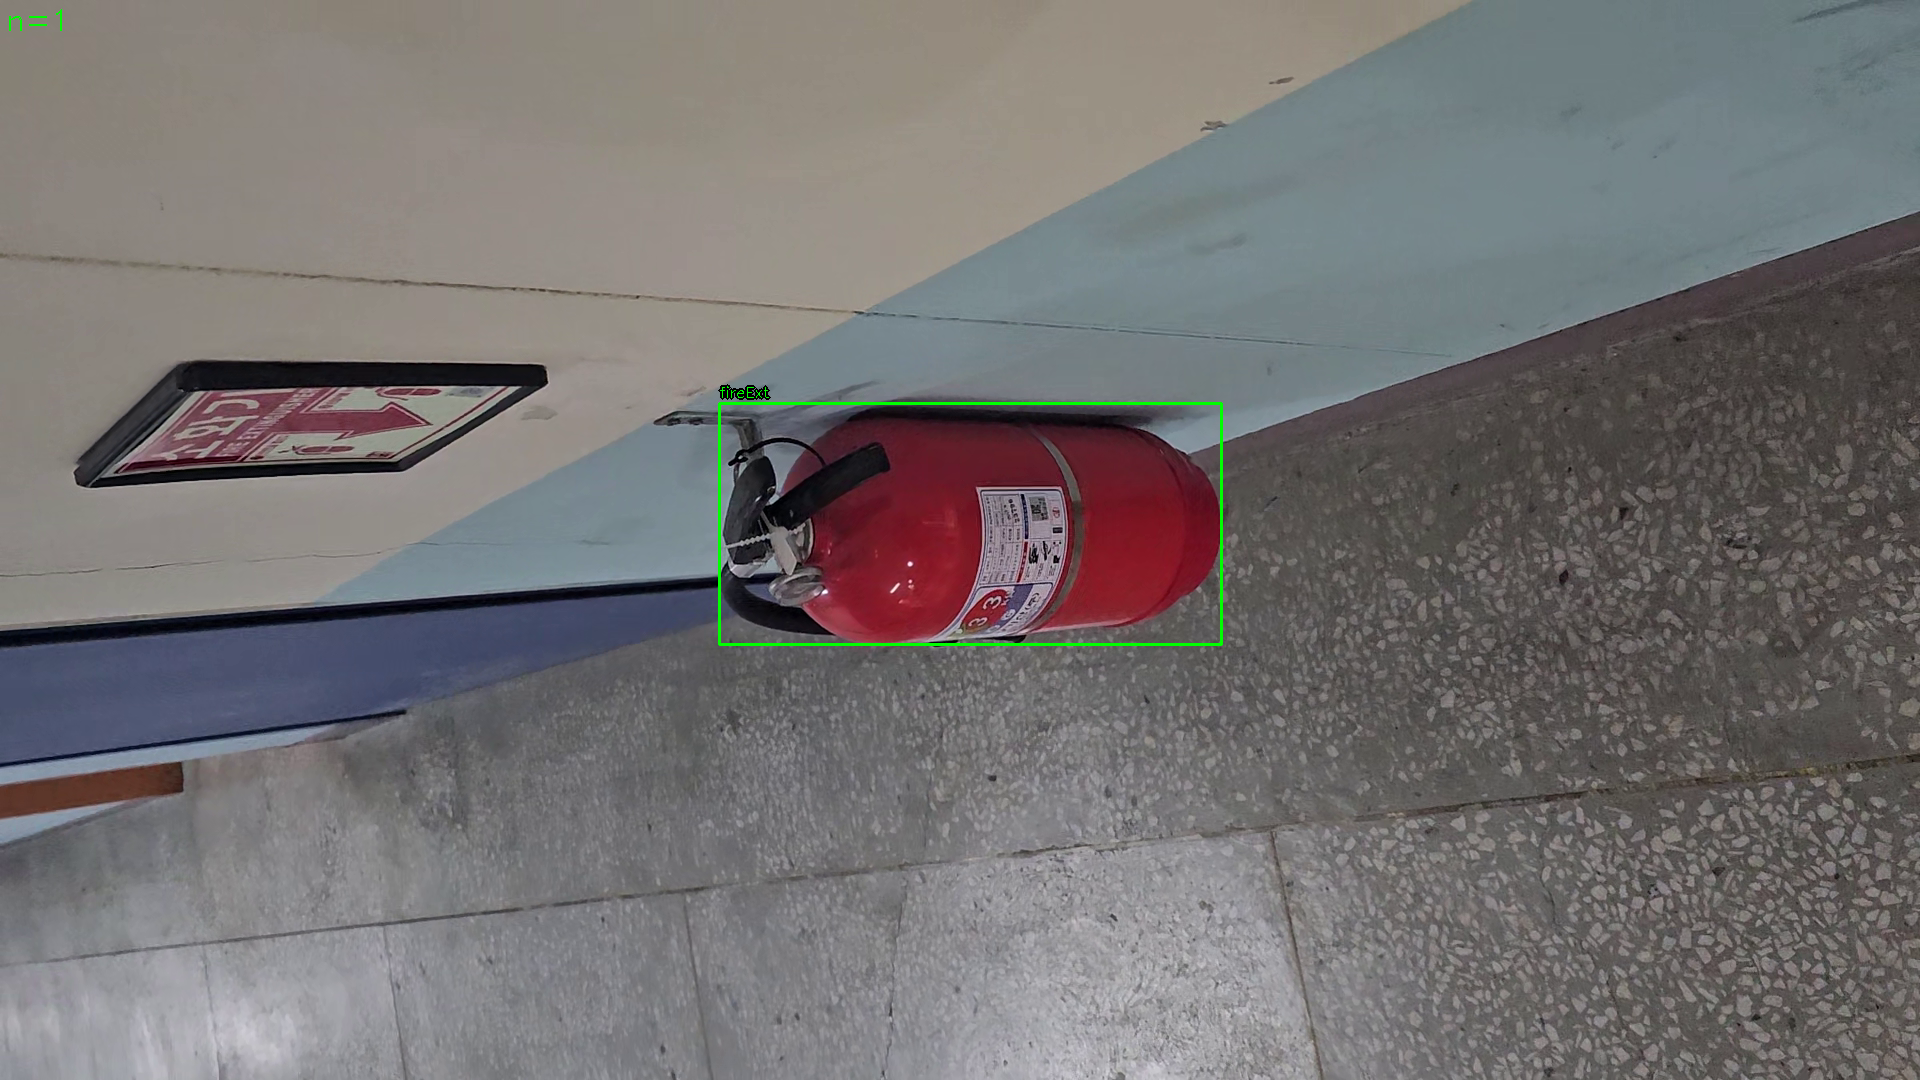lane: (719, 404, 1222, 645)
